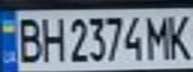2: (66, 14, 90, 63)
3: (84, 14, 109, 63)
4: (124, 12, 148, 62)
7: (103, 12, 127, 62)
B: (12, 14, 45, 63)
H: (36, 14, 66, 63)
K: (163, 10, 193, 61)
M: (142, 11, 172, 61)
